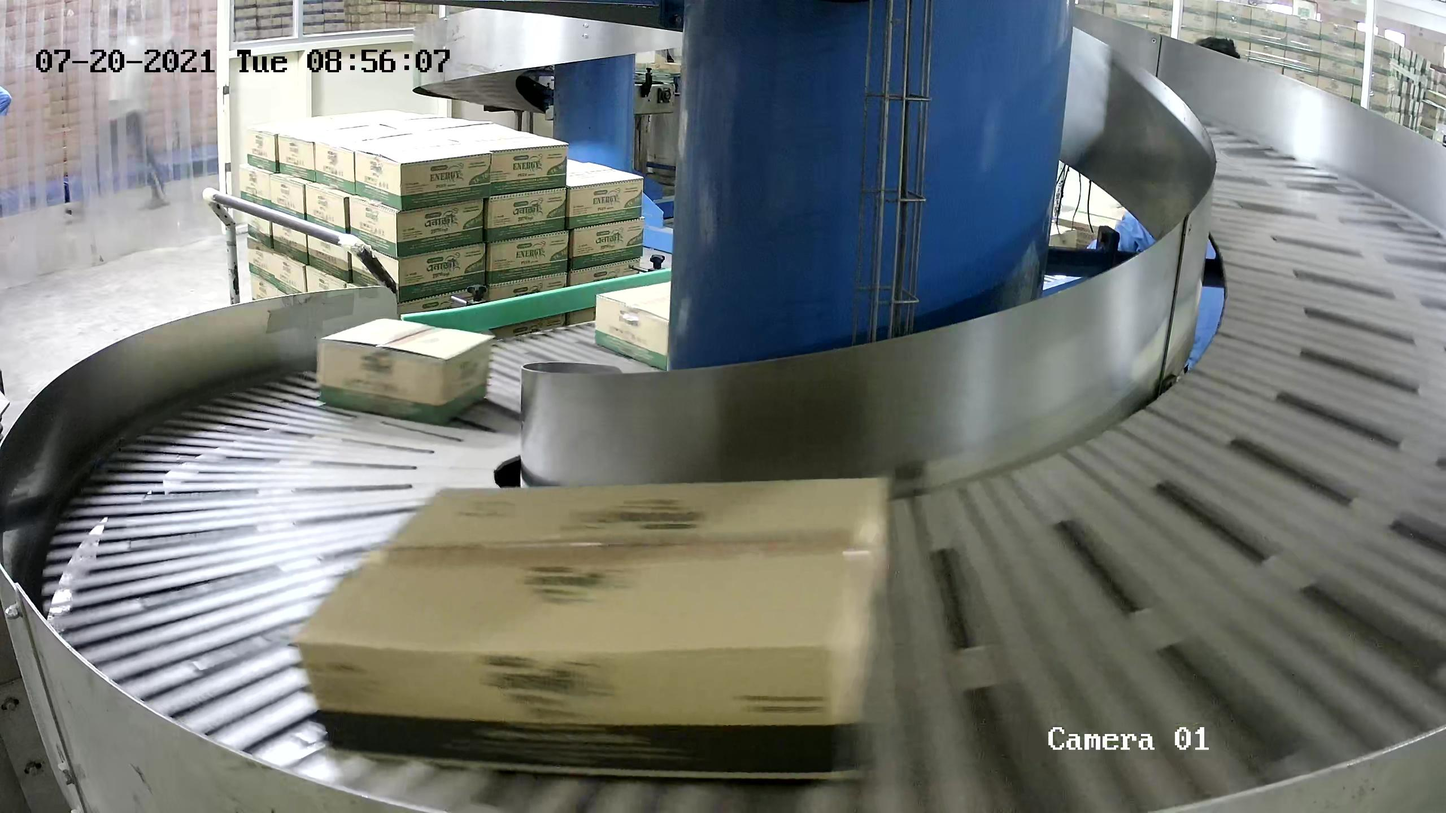Box: (292, 474, 892, 790), (314, 316, 501, 428), (596, 271, 753, 372)
